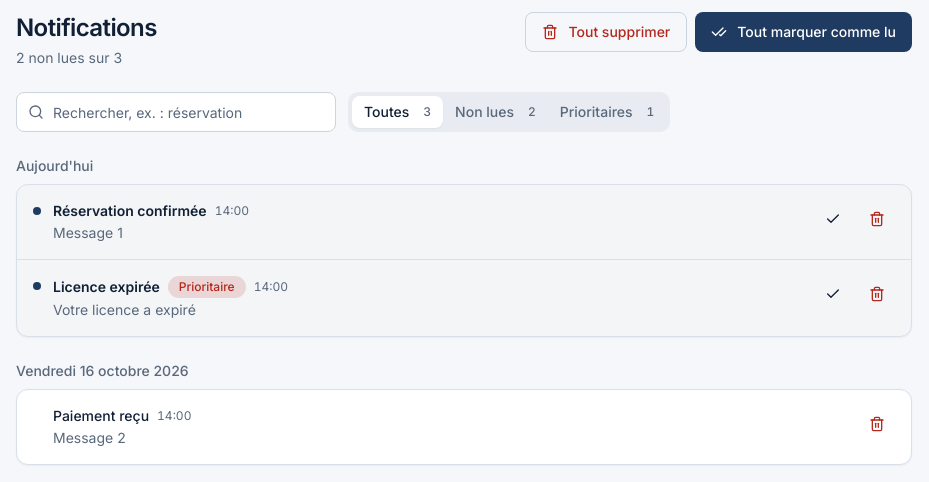
Test case: NotificationsPage › marque tout comme lu en une seule requête
Check: the text "Message 1" is shown, box [53,224,123,241]
Click the button "Tout marquer comme lu" at x=804, y=32, box [695,12,912,52]
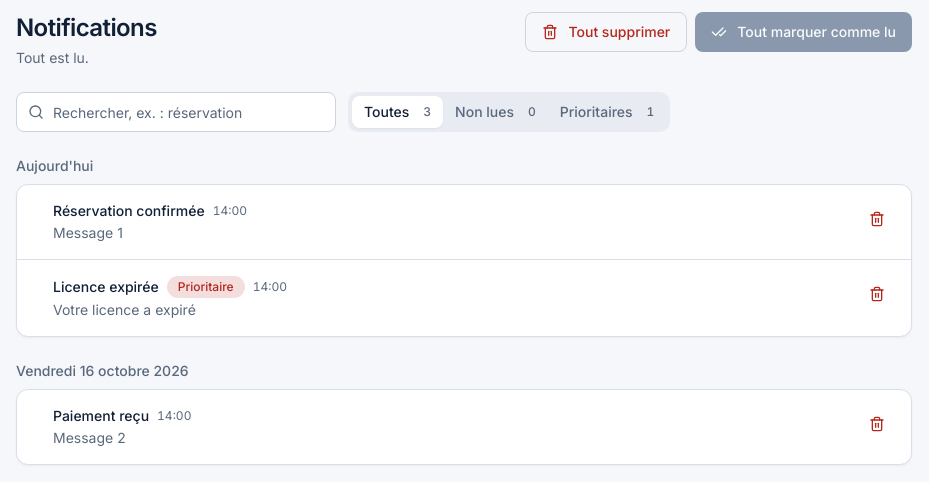
Check: the text "Tout est lu." is shown, box [16,49,89,66]
